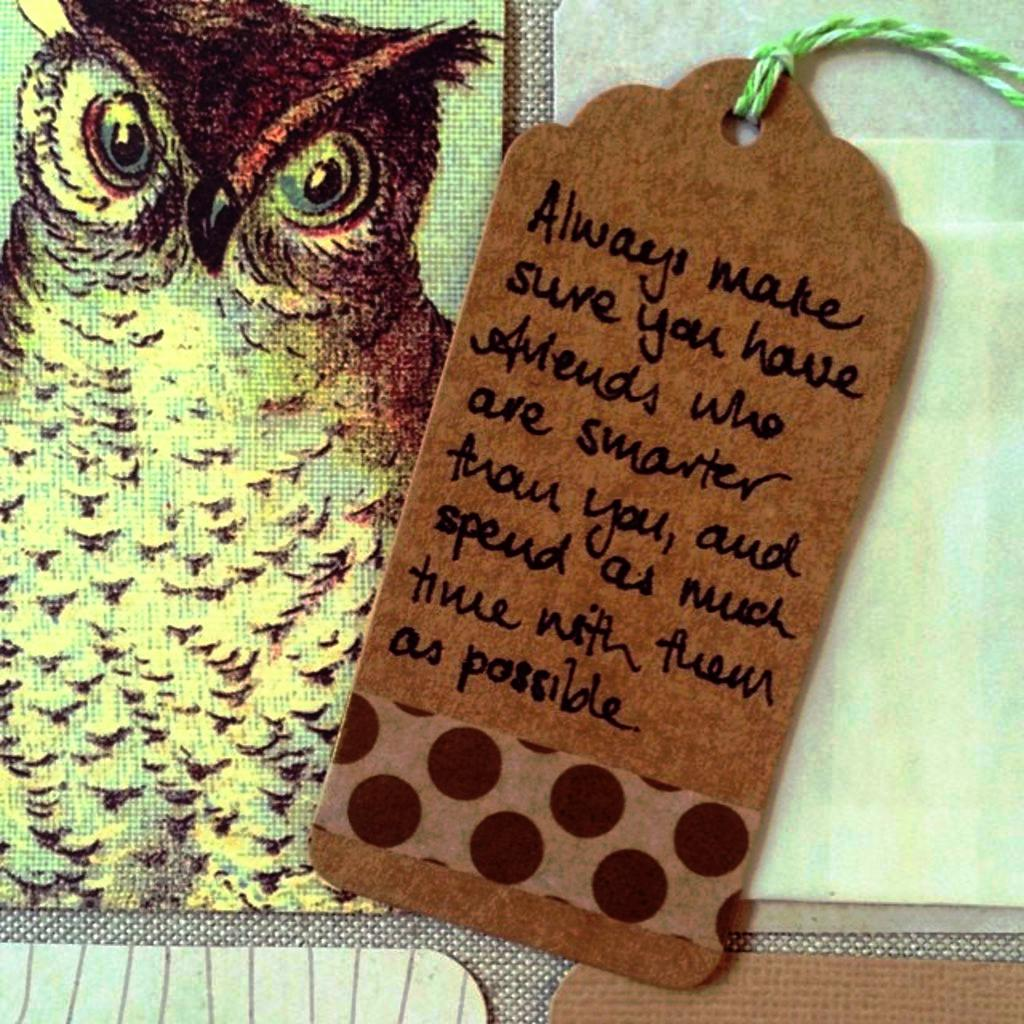Owl: (0, 0, 504, 912)
